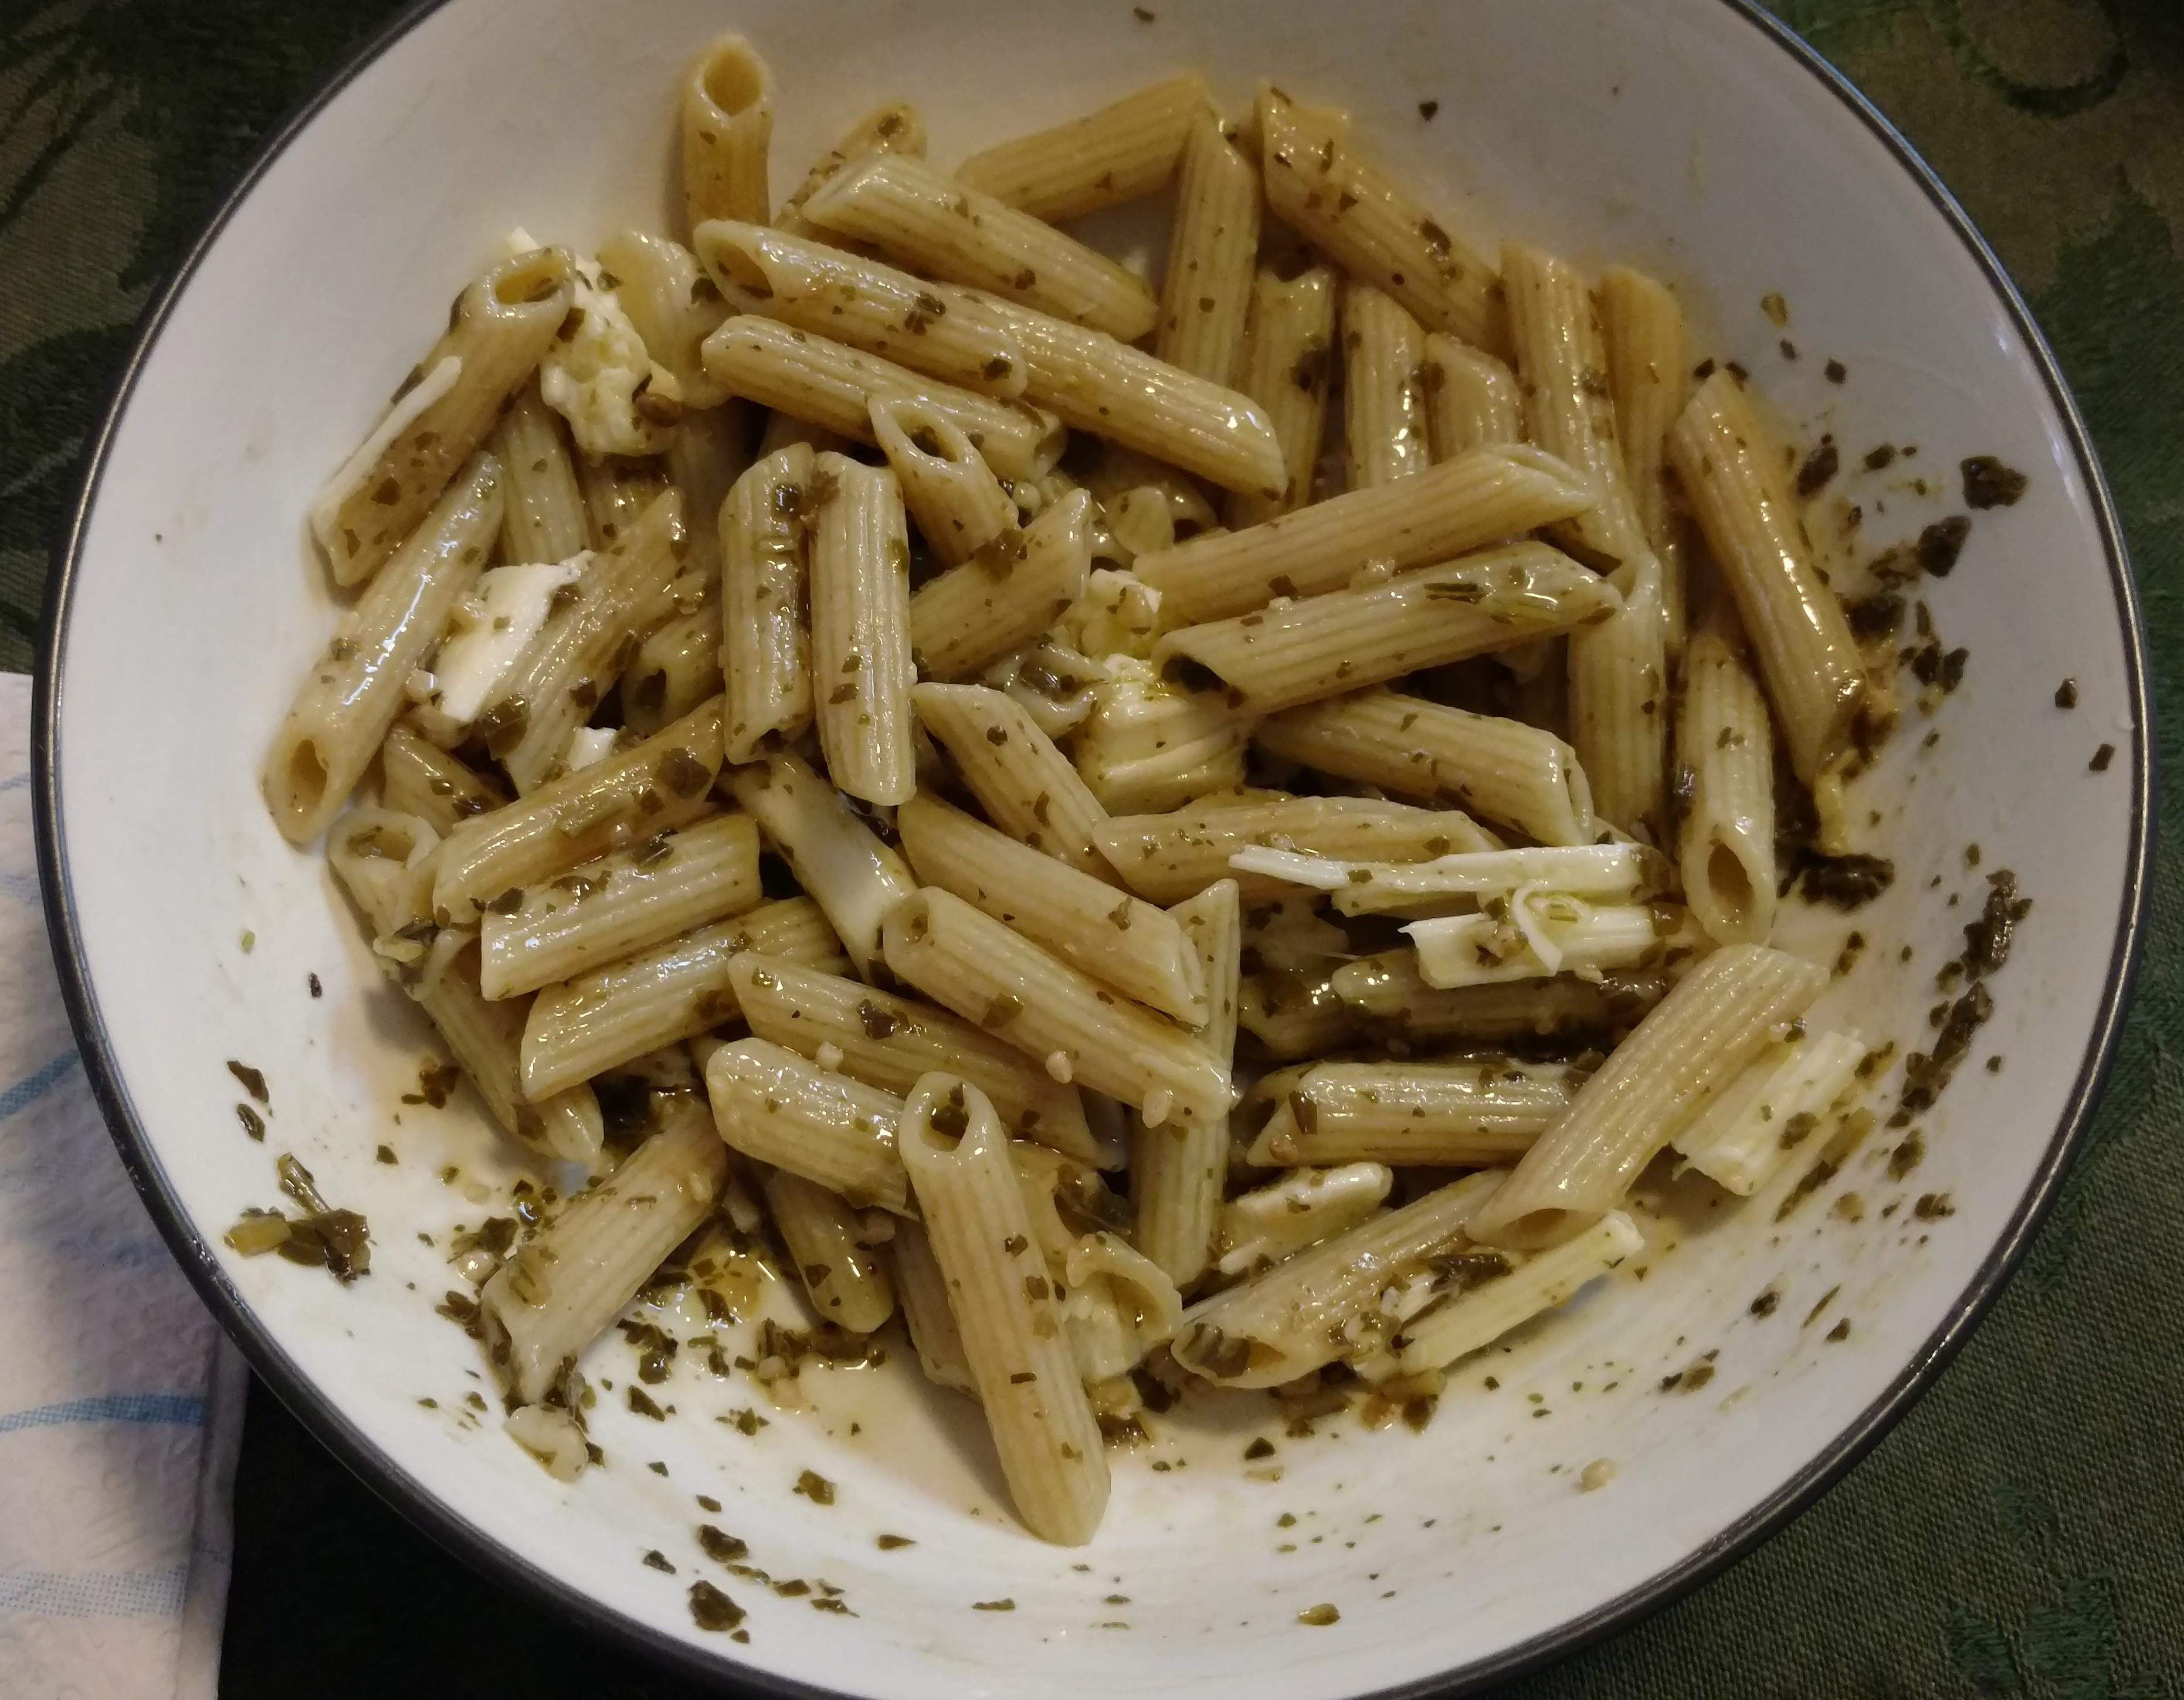plain spaghetti: (362, 121, 1851, 1381)
